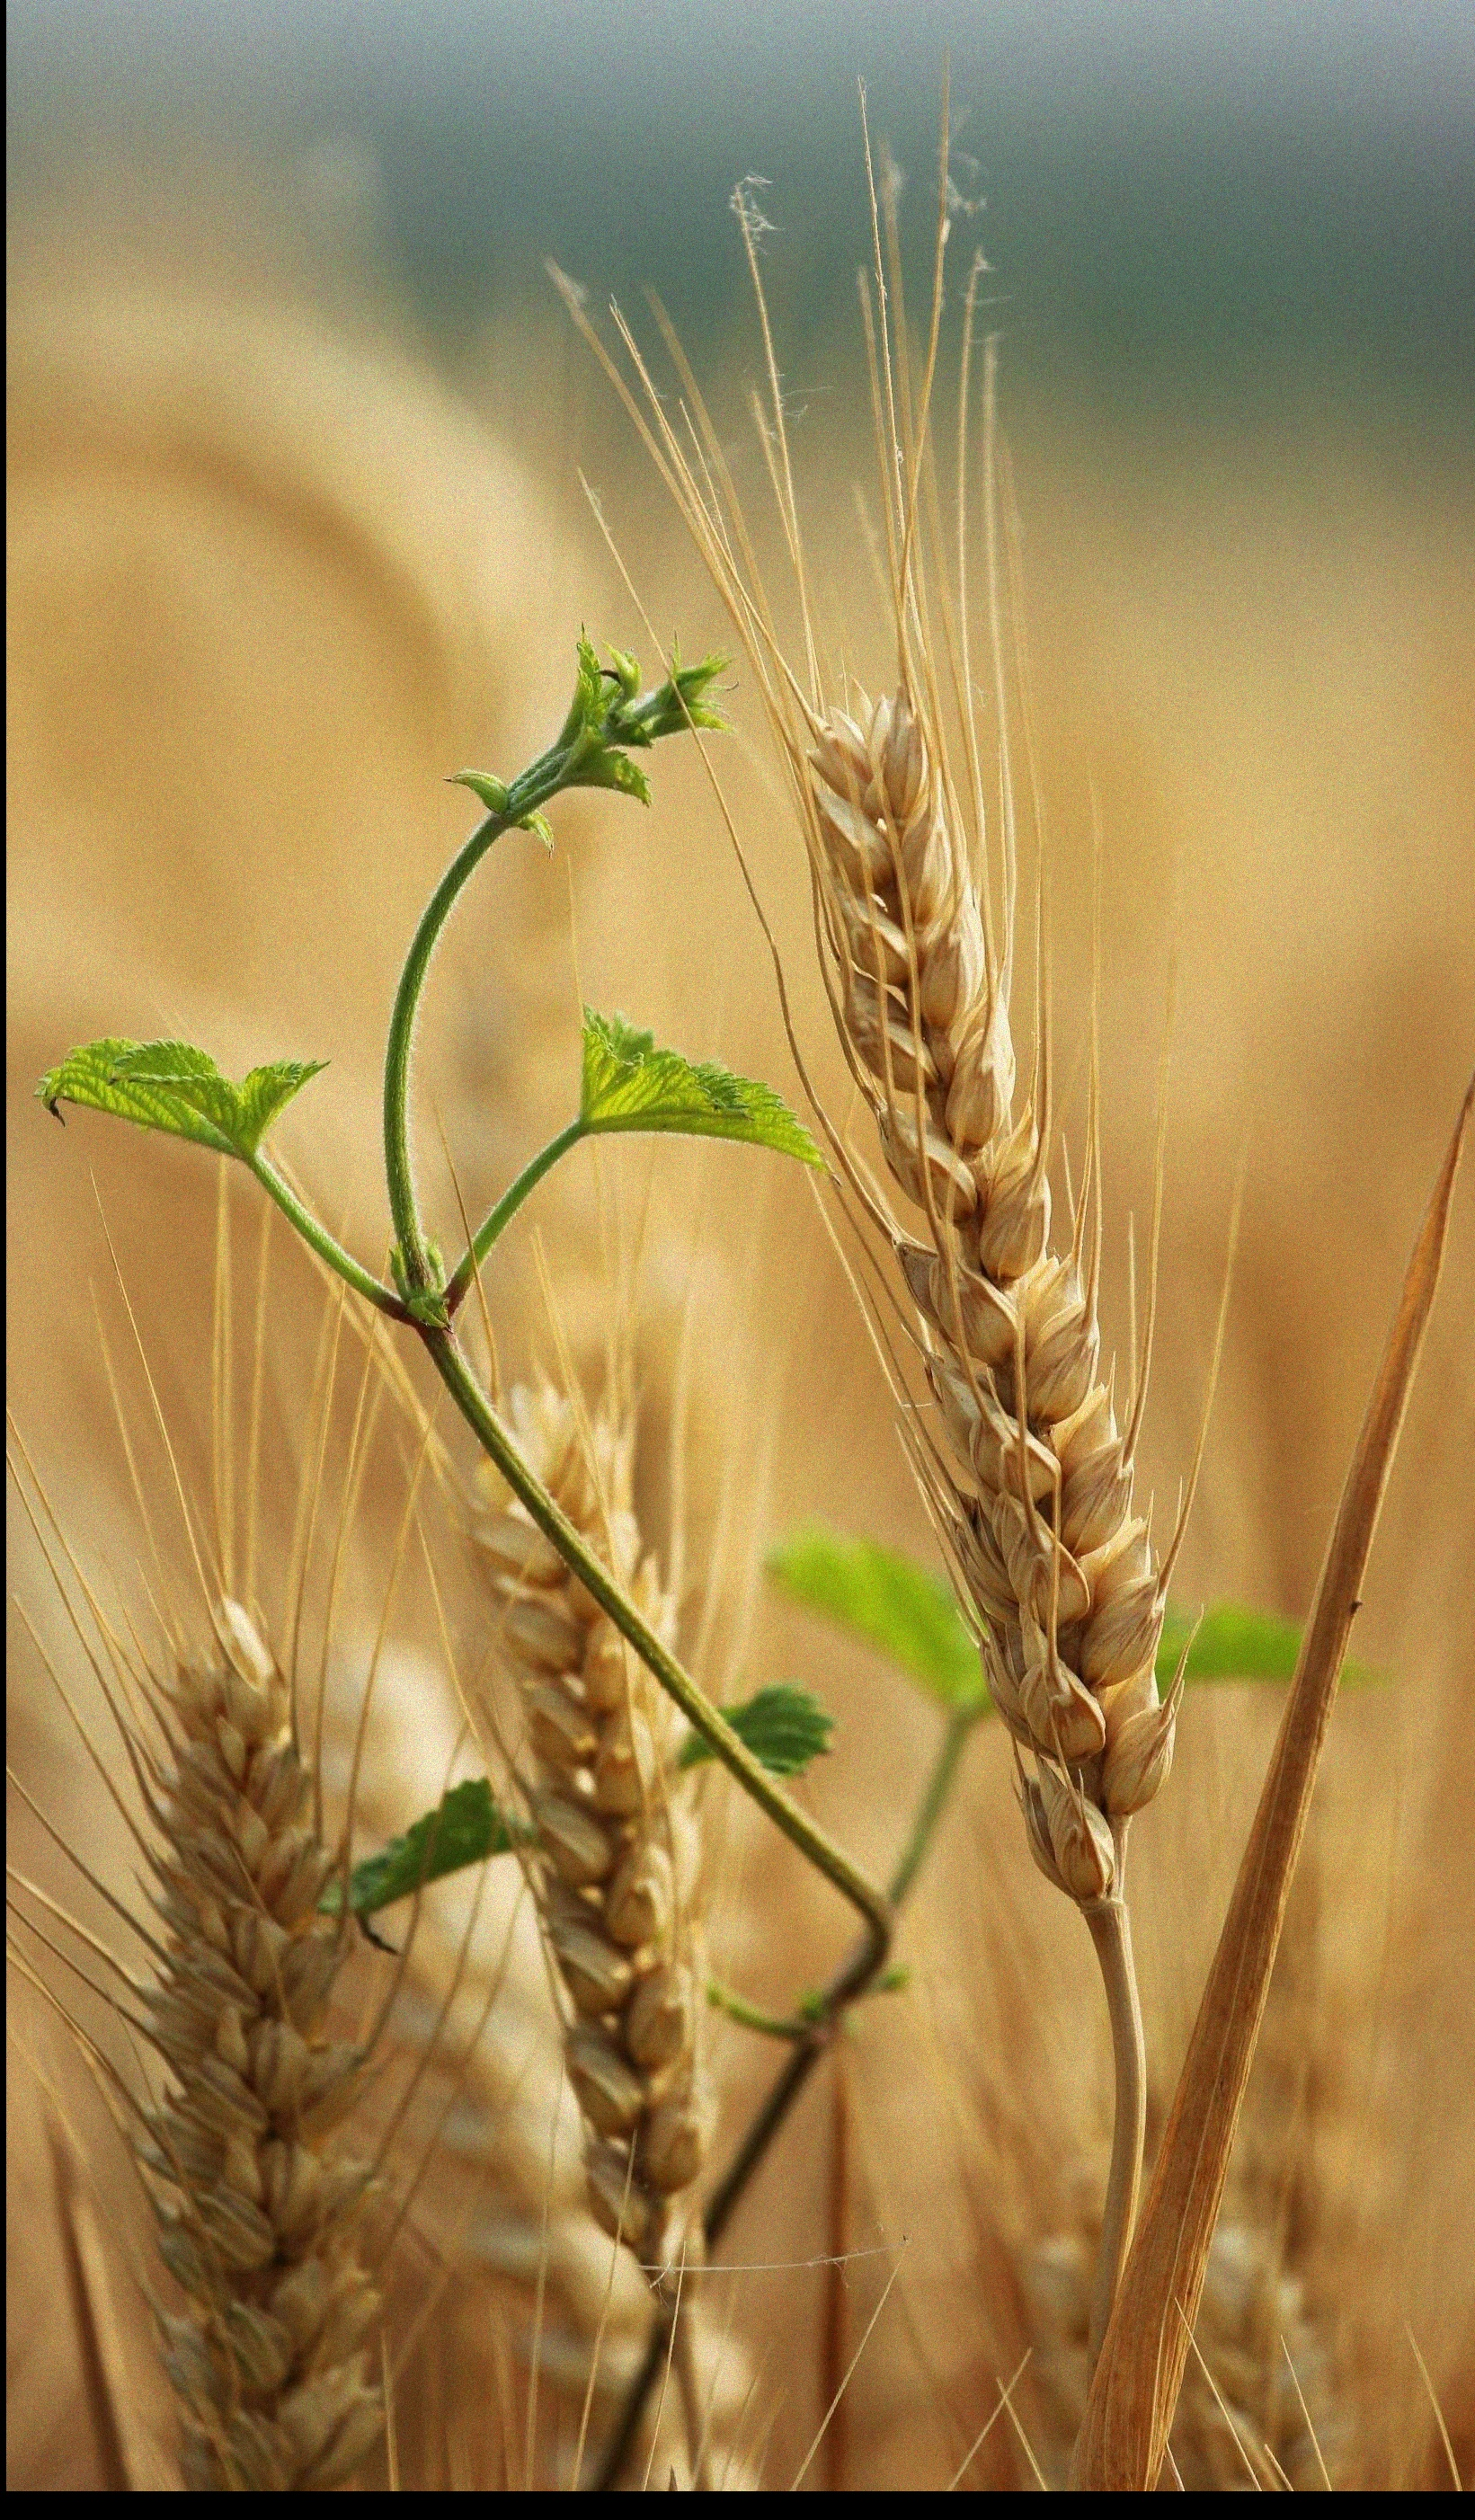wheat: (746, 514, 1234, 1946), (7, 1571, 393, 2476), (478, 1355, 745, 2283)
